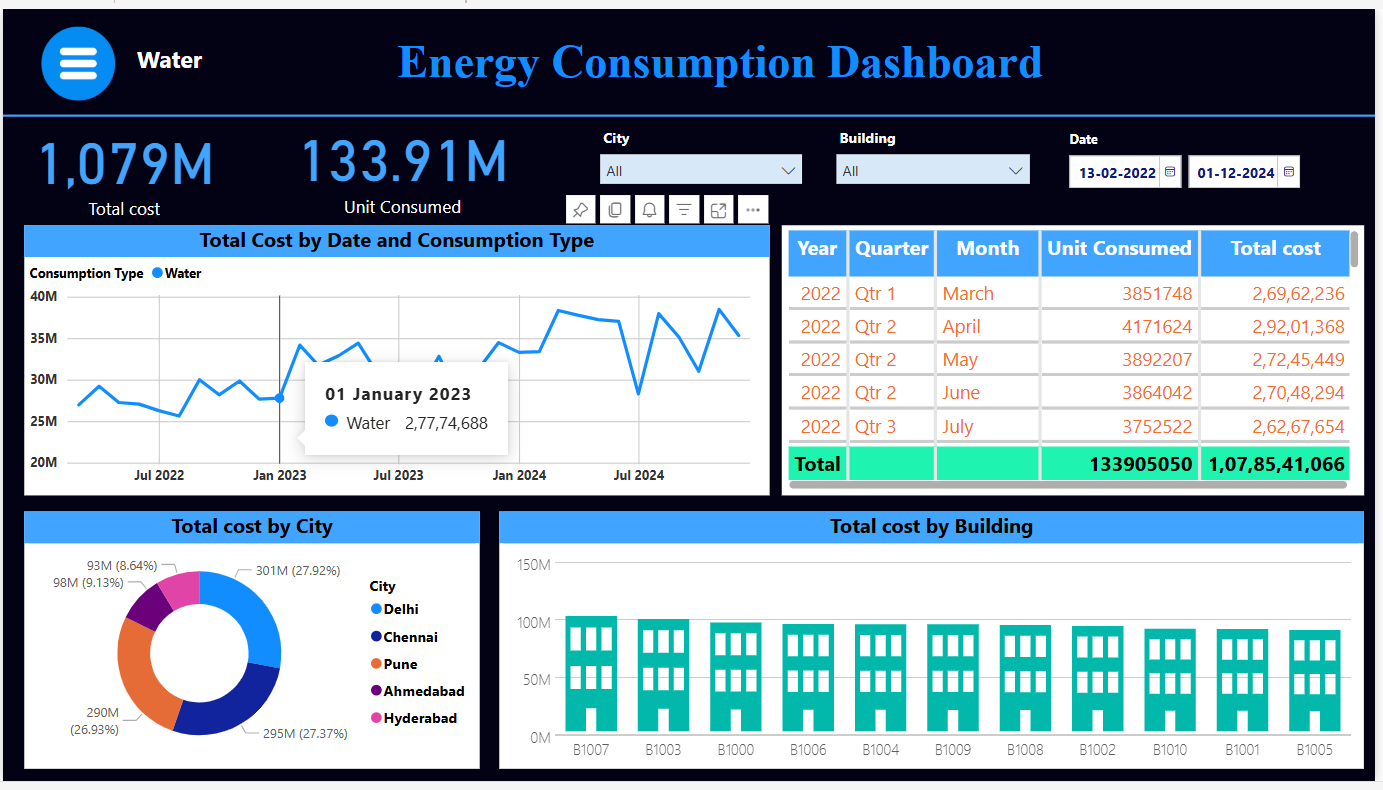

The page's visual inventory and layout, read from the dashboard file:
{"tool":"powerbi","page":{"name":"Water","canvas":[1280,720],"ordinal":1},"visuals":[{"type":"shape","box":[0,81.4,1280,35.7],"z":0},{"type":"image","box":[20,11.4,100,78.6],"z":1000},{"type":"textbox","box":[280,20,778.3,60],"z":2000},{"type":"textbox","box":[120,26.7,160,45],"z":3000},{"type":"card","fields":{"Values":["Energy Consumption.Total cost"]},"box":[0,95,226.7,106.7],"z":4000},{"type":"card","fields":{"Values":["Energy Consumption.Unit Consumed"]},"box":[265,90,216.7,111.7],"z":5000},{"type":"slicer","fields":{"Values":["Energy Consumption.Building"]},"box":[766.7,106.7,200,78.3],"z":6000},{"type":"slicer","fields":{"Values":["Building Master.City"]},"box":[546.7,106.7,208.3,78.3],"z":7000},{"type":"slicer","fields":{"Values":["Energy Consumption.Date"]},"box":[981.7,108.3,298.3,63.3],"z":8000},{"type":"donutChart","fields":{"Y":["Energy Consumption.Total cost"],"Category":["Building Master.City"]},"box":[20,468.3,425,240],"z":9000},{"type":"PBI_CV_73744D90_4DC9_4F18_8BA5_EE8FA5C98035","fields":{"Category":["Building Master.Building"],"Values":["Energy Consumption.Total cost"]},"box":[463.3,468.3,806.7,240],"z":10000},{"type":"lineChart","title":"Total Cost by Date and Consumption Type","fields":{"Category":["Energy Consumption.Date"],"Y":["Energy Consumption.Total cost"],"Series":["Energy Consumption.Consumption Type"]},"box":[20,201.7,695,251.7],"z":11000},{"type":"tableEx","title":"Total Cost by Date and Consumption Type","fields":{"Values":["Energy Consumption.Date.Variation.Date Hierarchy.Year","Energy Consumption.Date.Variation.Date Hierarchy.Quarter","Energy Consumption.Date.Variation.Date Hierarchy.Month","Energy Consumption.Unit Consumed","Energy Consumption.Total cost"]},"box":[726.7,201.7,543.3,251.7],"z":12000},{"type":"actionButton","box":[29.8,11.9,83.3,78.9],"z":15000}]}

Visuals, with their boxes in screenshot pixels (x1, y1, x2, y2), scaled from the page's 1280x720 canvas onto the 1383x790 screenshot:
shape: Rect(0, 89, 1382, 128)
image: Rect(22, 13, 130, 99)
textbox: Rect(303, 22, 1143, 88)
textbox: Rect(130, 29, 303, 79)
card - Energy Consumption.Total cost: Rect(0, 104, 245, 221)
card - Energy Consumption.Unit Consumed: Rect(286, 99, 520, 221)
slicer - Energy Consumption.Building: Rect(828, 117, 1044, 203)
slicer - Building Master.City: Rect(591, 117, 816, 203)
slicer - Energy Consumption.Date: Rect(1061, 119, 1382, 188)
donutChart - Energy Consumption.Total cost x Building Master.City: Rect(22, 514, 481, 777)
PBI_CV_73744D90_4DC9_4F18_8BA5_EE8FA5C98035 - Building Master.Building x Energy Consumption.Total cost: Rect(501, 514, 1372, 777)
"Total Cost by Date and Consumption Type" lineChart: Rect(22, 221, 773, 497)
"Total Cost by Date and Consumption Type" tableEx: Rect(785, 221, 1372, 497)
actionButton: Rect(32, 13, 122, 100)
